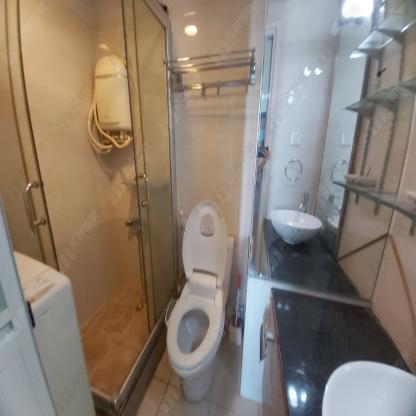Faucet: (299, 189, 309, 215)
Toilet: (168, 200, 239, 403)
Toilet Sink: (322, 363, 416, 416), (270, 209, 321, 243)
Washing Machine: (13, 249, 96, 416)
Water Heater: (90, 53, 133, 145)
